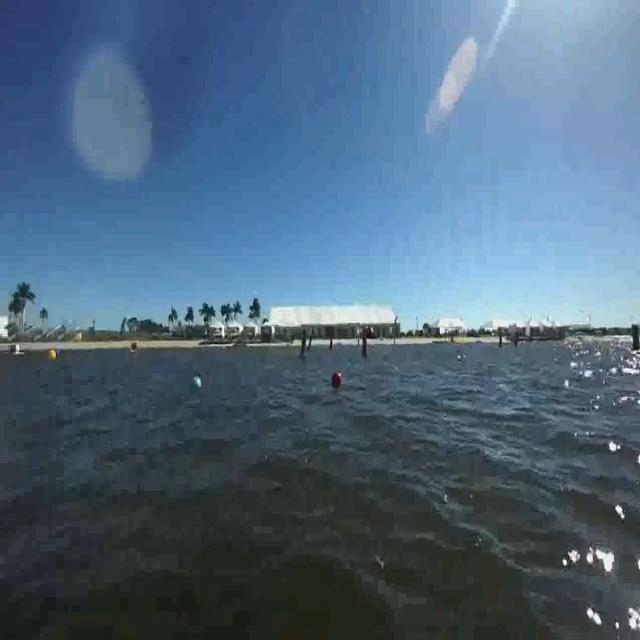green-buoy: (186, 373, 201, 392)
green-column-buoy: (630, 324, 640, 354)
red-buoy: (334, 373, 343, 387)
yellow-buoy: (48, 348, 56, 362)
